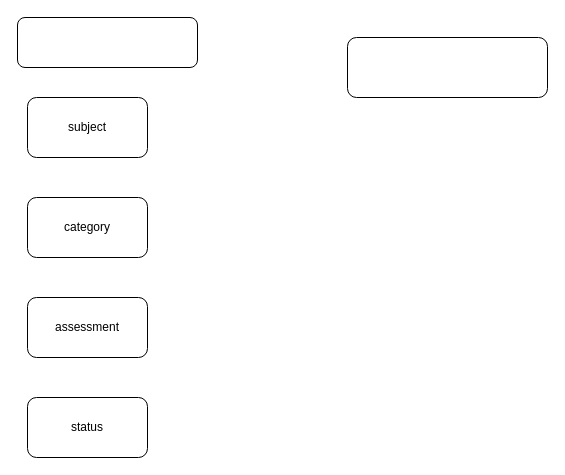
This 565x475 diagram has some shape labels left out. Each missing label, with the centre of its shape:
Student: (107,42)
Student_assment: (447,67)
